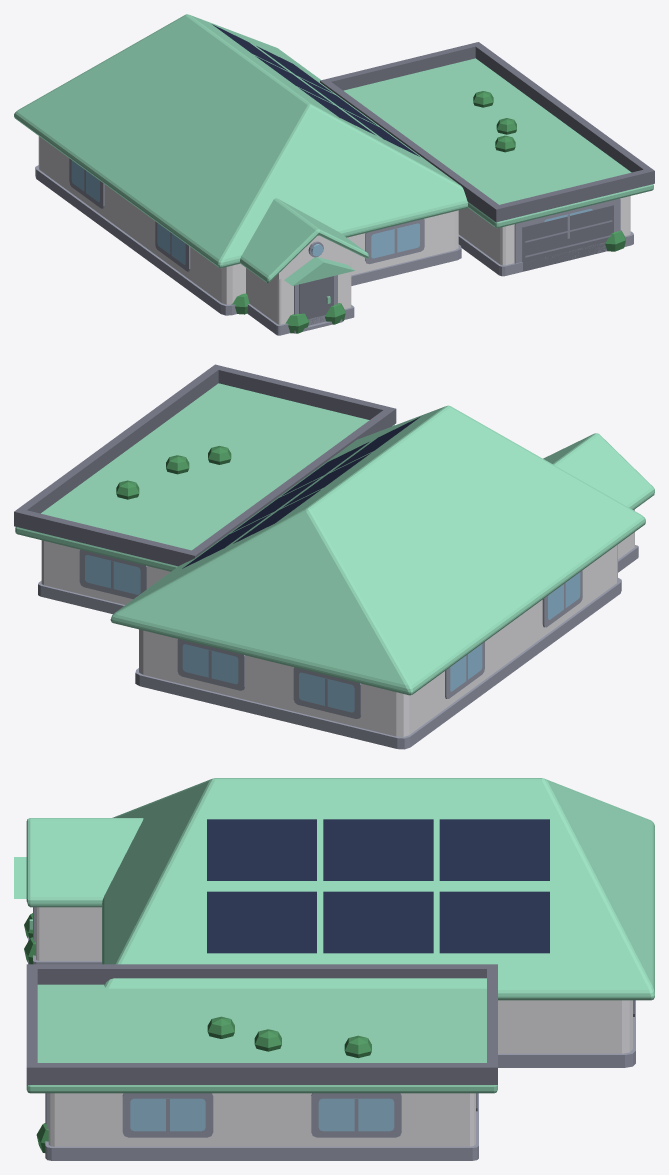
The model's file is house-2x2-1f-mansard-a-solar.glb.
3 renders of one model, top to bottom at view 1: azimuth 30°, elevation 25°; view 2: azimuth 150°, elevation 25°; view 3: azimuth 270°, elevation 25°, orthographic. The views are drawn at different scales.
Visible parts, largest first — view 1: house-2x2-1f-mansard-a-solar; view 2: house-2x2-1f-mansard-a-solar; view 3: house-2x2-1f-mansard-a-solar.
Boxes of the visible parts, x1,y1,x2,y2 form: house-2x2-1f-mansard-a-solar: [14, 14, 654, 335]; house-2x2-1f-mansard-a-solar: [14, 364, 654, 749]; house-2x2-1f-mansard-a-solar: [14, 778, 654, 1160].
Size of the model in its own units: 2 by 0.7411 by 2.04.
1 material, 1 textured.
